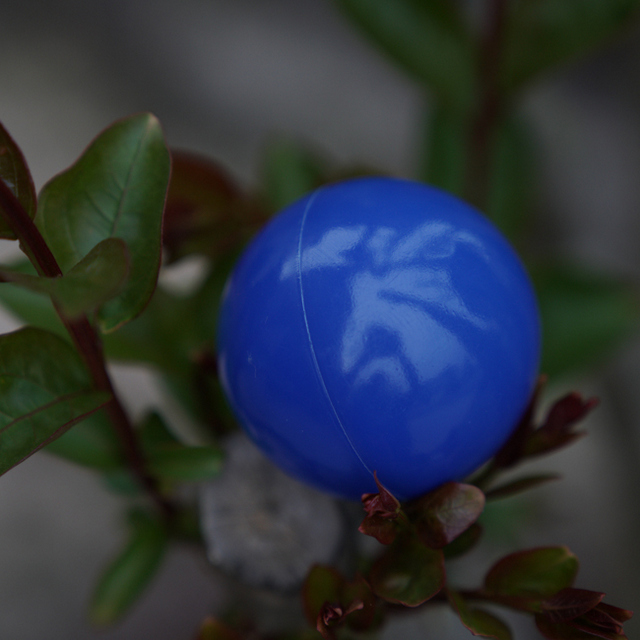Ball: (219, 179, 538, 503)
